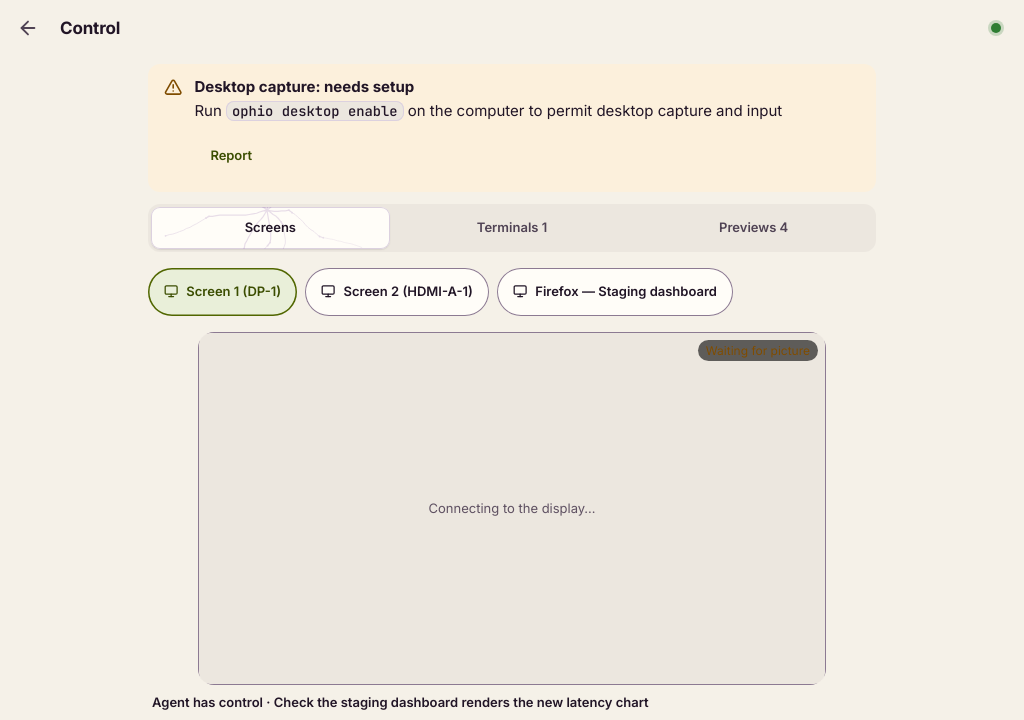
shows nothing of computer use that can't start, and shows the host’s terminal output age
The image size is (1024, 720).
Click the radio button labelled "Terminals 1" at (512, 228), box [393,206,631,248]
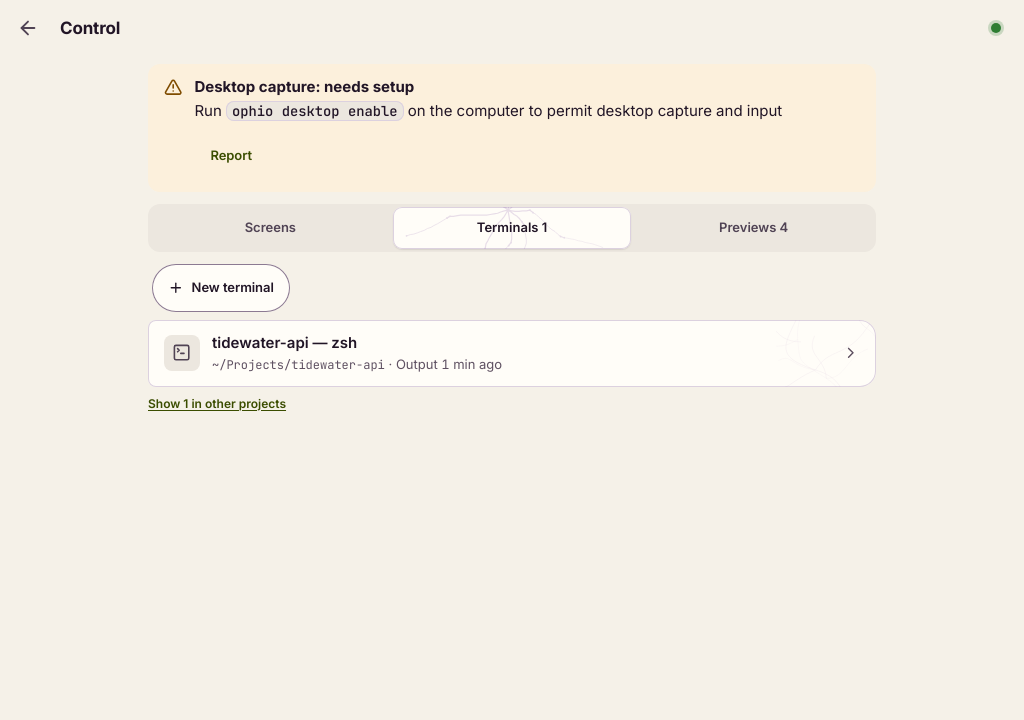
Expected: the text "~/Projects/tidewater-api · Output 1 min ago" is shown, [212,356,502,373]
